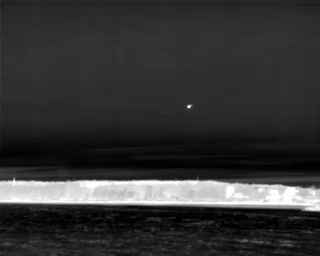HELICOPTER: (185, 101, 195, 113)
